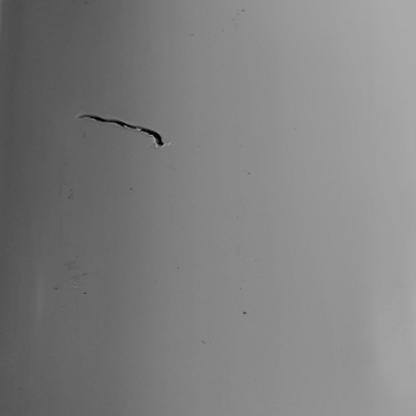fengxi: (74, 113, 165, 149)
